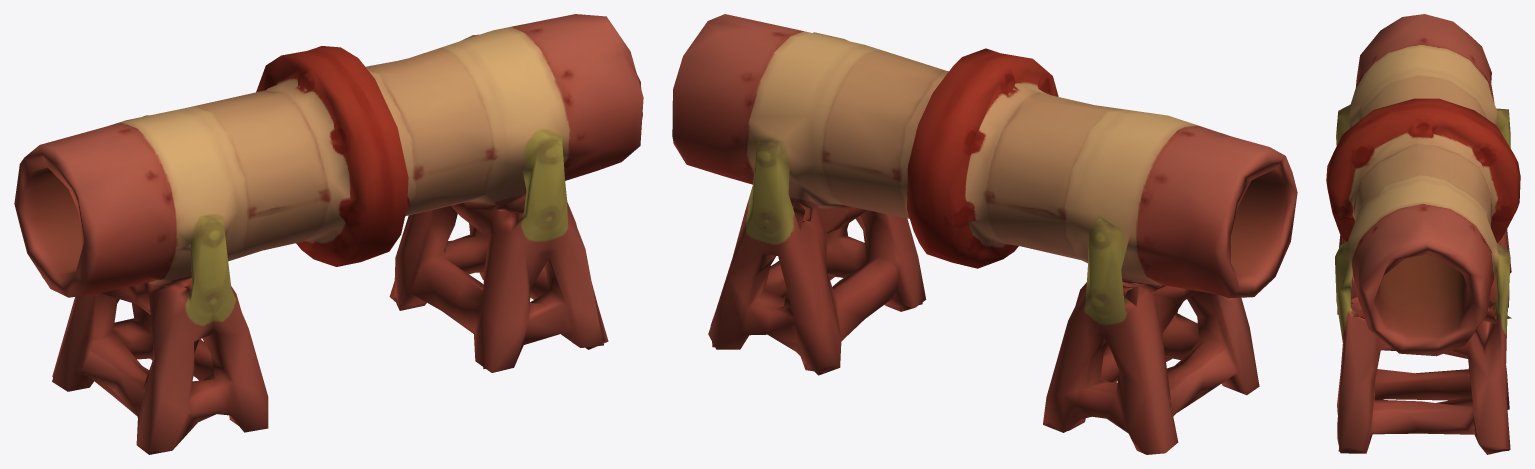
Rendered from truba-na-kozlakh.glb.
3 views of the same model, side by side, from view 1: azimuth 30°, elevation 25°; view 2: azimuth 150°, elevation 25°; view 3: azimuth 270°, elevation 25° (orthographic). The views are drawn at different scales.
Parts seen in each view (by area): view 1: geometry_0; view 2: geometry_0; view 3: geometry_0.
Boxes of the visible parts, <box> form: geometry_0: <box>14,14,643,454</box>; geometry_0: <box>672,14,1297,454</box>; geometry_0: <box>1326,14,1520,454</box>.
Size of the model in its own units: 1 by 0.5307 by 0.3587.
1 material, 1 textured.
